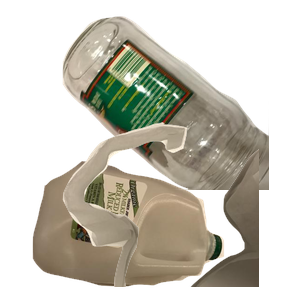glass: (60, 14, 300, 194)
metal: (99, 70, 236, 176)
plastic: (30, 159, 247, 300)
trash: (60, 120, 300, 300)
